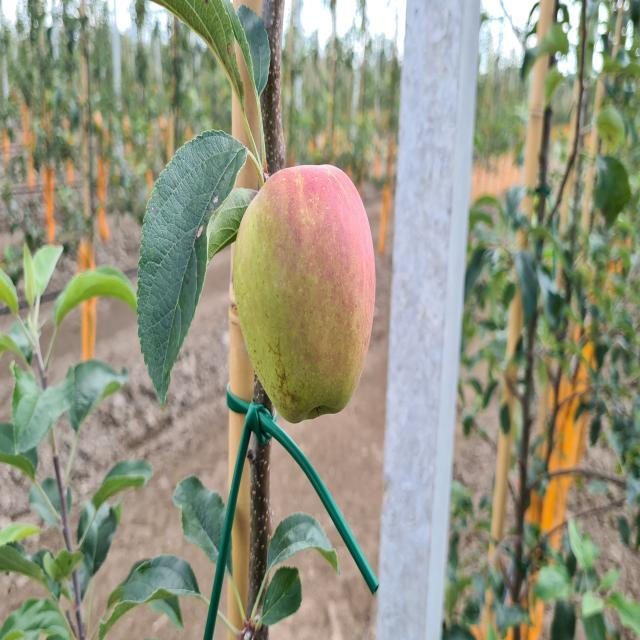Apple: (234, 164, 375, 422)
